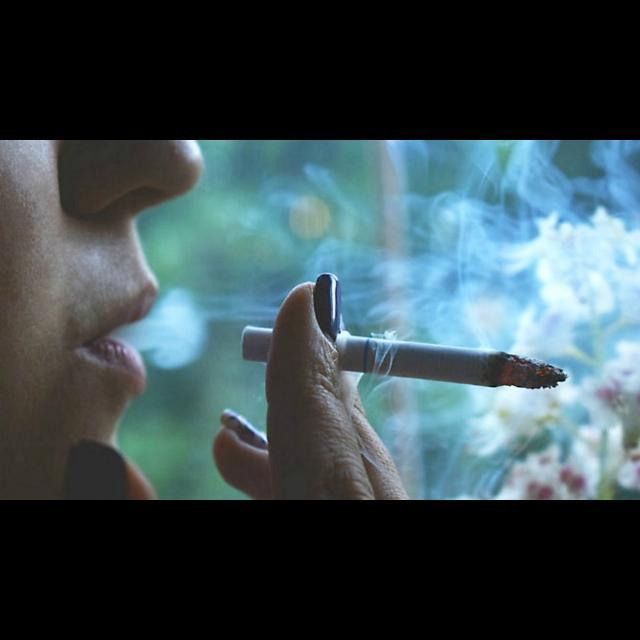rokok: (258, 308, 572, 399)
